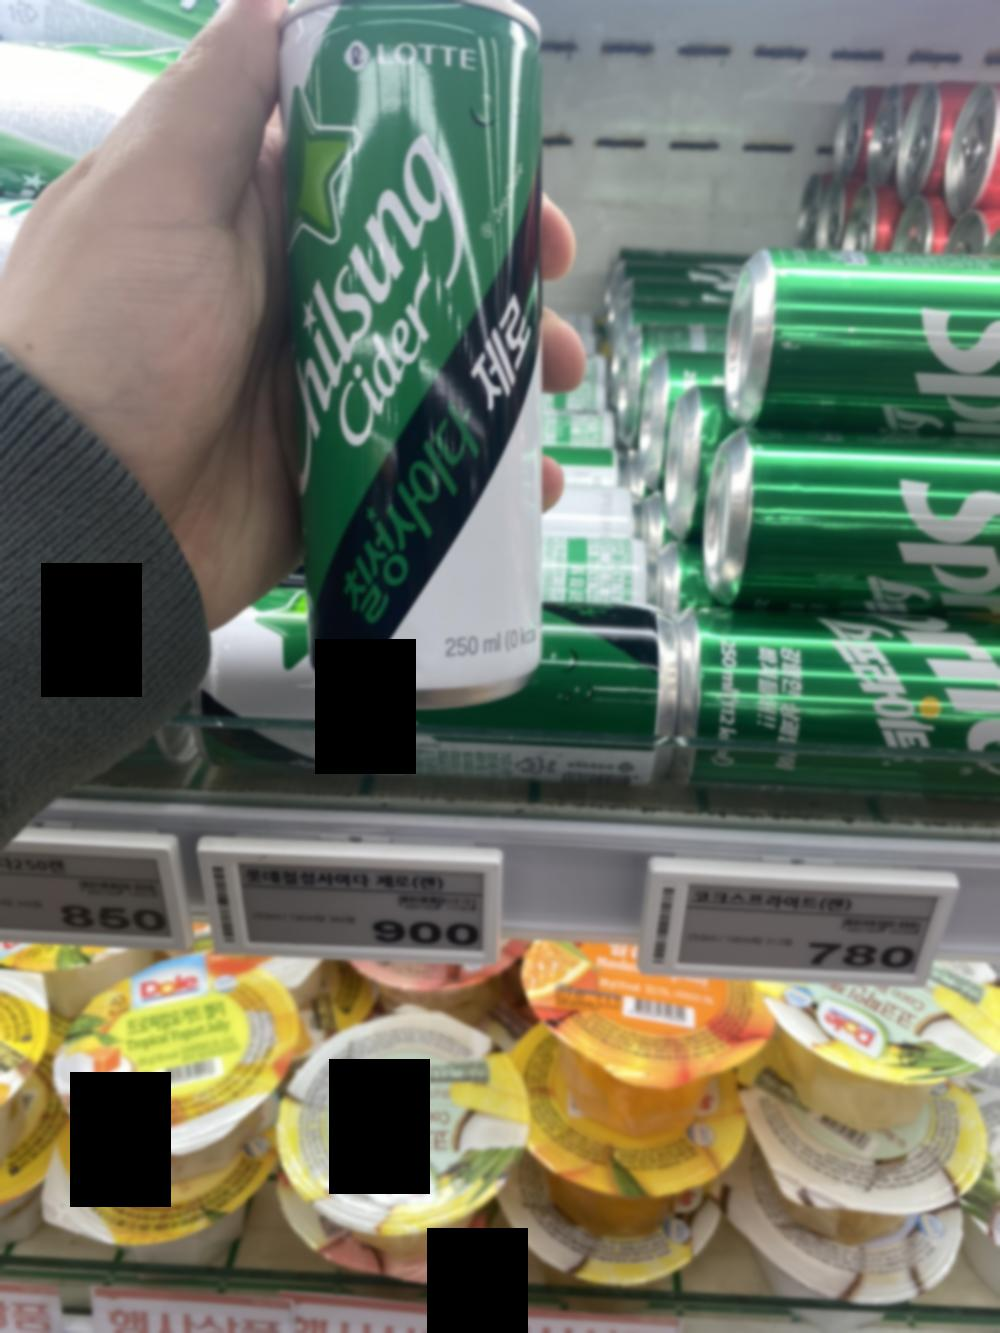chilsungcider_zero: (268, 11, 547, 702)
